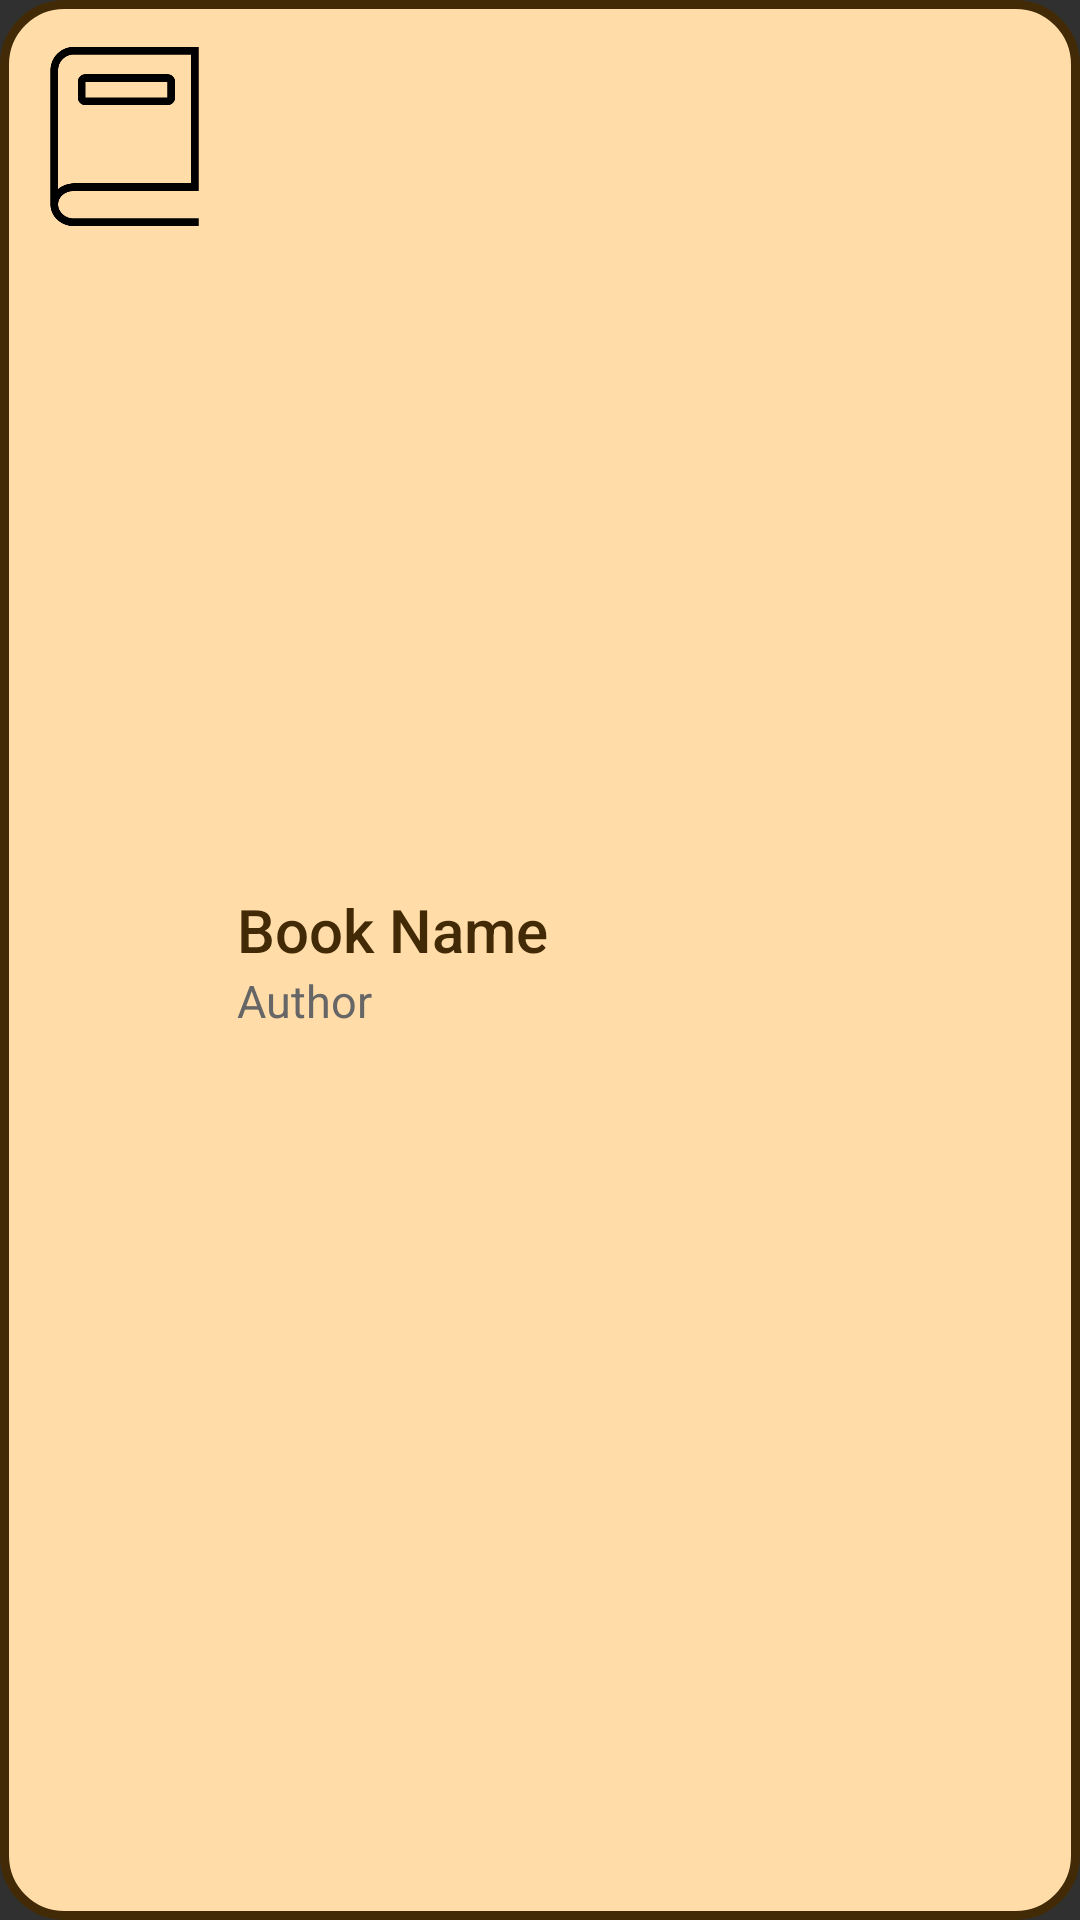

Screen size 1080px×1920px. Icon name, then its center in pixels as point (x, y):
book: point (124, 136)
